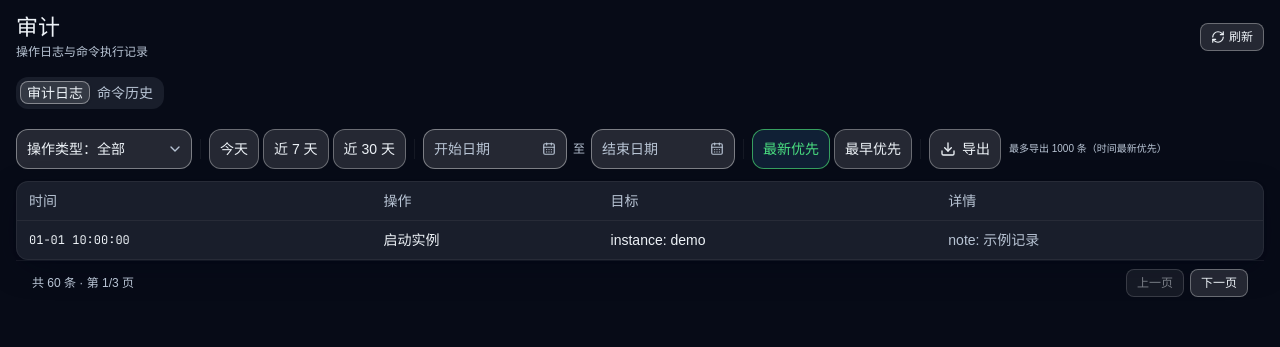
Test: 命令历史 tab 时间筛选 › 起止倒置防护与 URL 持久化（对齐 模式 cmd 前缀参数）
Click the tab "命令历史".
click(125, 93)  # box [90, 81, 160, 104]
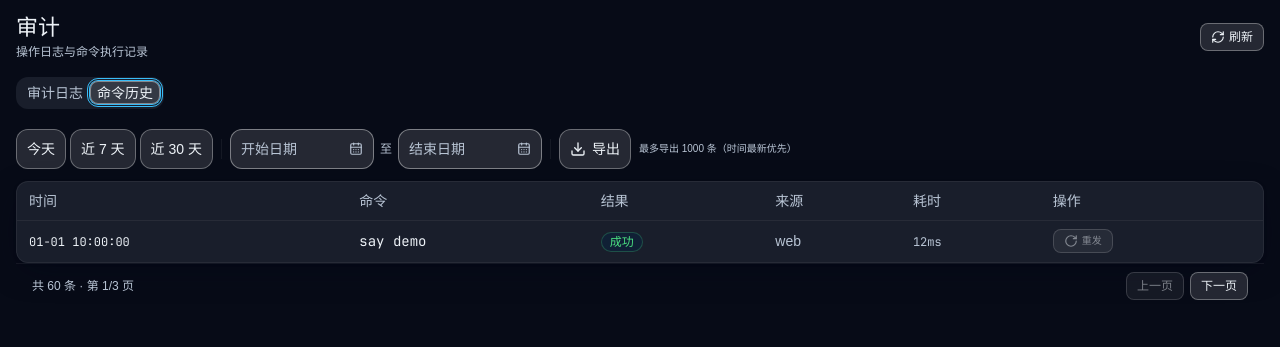
# 起止倒置：alert 提示 + 时间参数暂停透传（不静默空结果）
Type "2026-03-10" into the field labelled "开始日期".
click(302, 149); type("2026-03-10")  # box [230, 129, 374, 169]
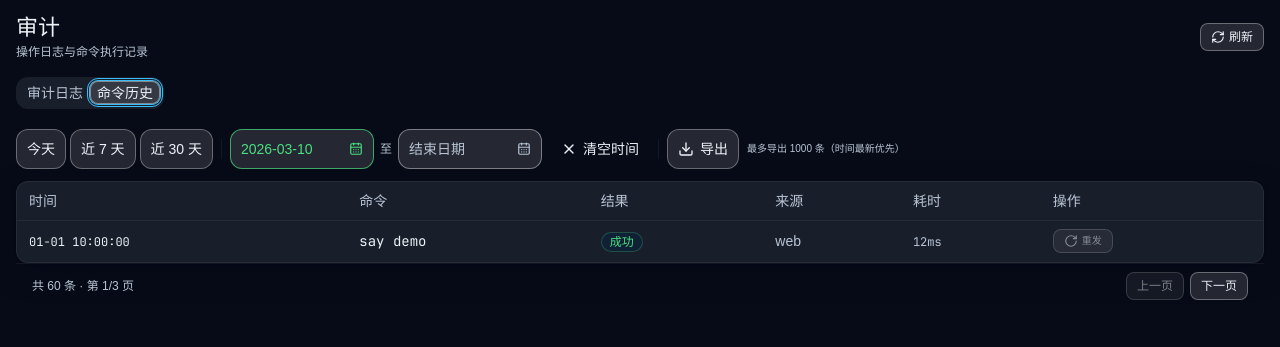
Type "2026-03-01" into the field labelled "结束日期".
click(470, 149); type("2026-03-01")  # box [398, 129, 542, 169]
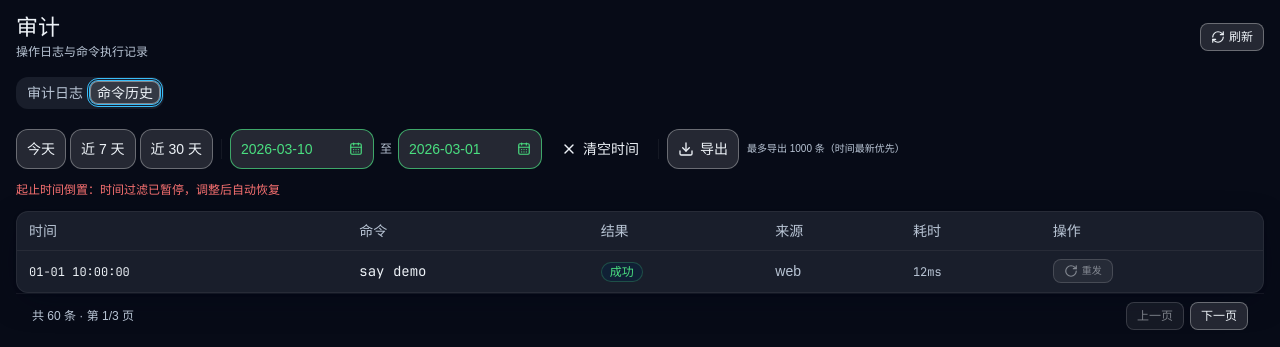
Expected: the message shows "起止时间倒置", [16, 183, 280, 197]
# 修正后自动恢复过滤（start 改为早于 end 的日期）
Replace the text in the field named "开始日期" with "2026-02-25" at (302, 149), box [230, 129, 374, 169]
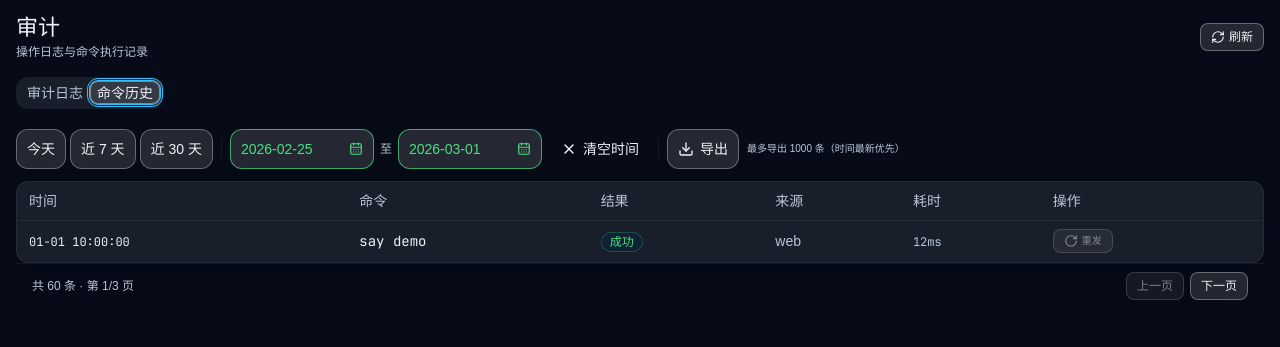
Expected: the message "起止时间倒置：时间过滤已暂停，调整后自动恢复" is gone
